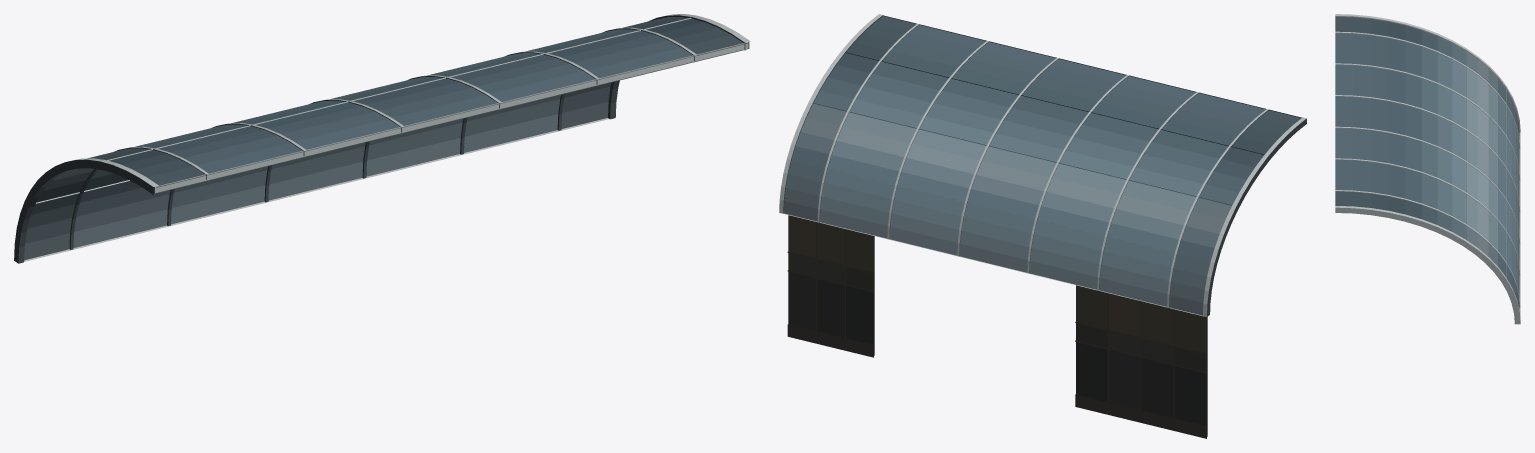
Rendered from gate-canopy.glb.
3 views of the same model, side by side, from view 1: azimuth 30°, elevation 25°; view 2: azimuth 150°, elevation 25°; view 3: azimuth 270°, elevation 25° (orthographic). The views are drawn at different scales.
Visible parts, largest first — view 1: Surface; view 2: Surface; view 3: Surface.
Boxes of the visible parts, x1,y1,x2,y2 form: Surface: (14, 14, 750, 263); Surface: (779, 14, 1306, 438); Surface: (1335, 14, 1520, 324).
Size of the model in its own units: 21 by 11.8 by 8.5.
